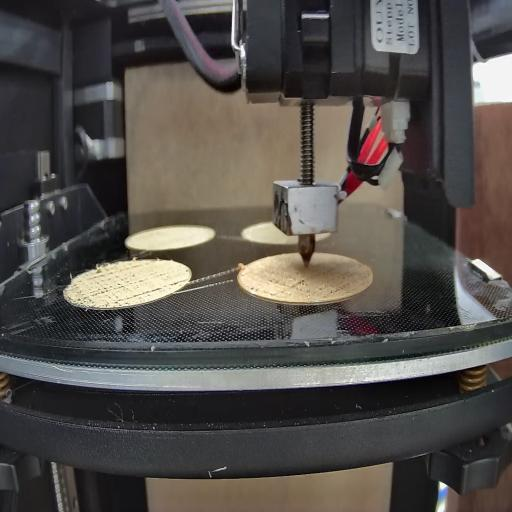under_extrusion: (76, 268, 162, 304), (251, 268, 311, 308), (314, 275, 352, 301), (167, 274, 189, 294)
